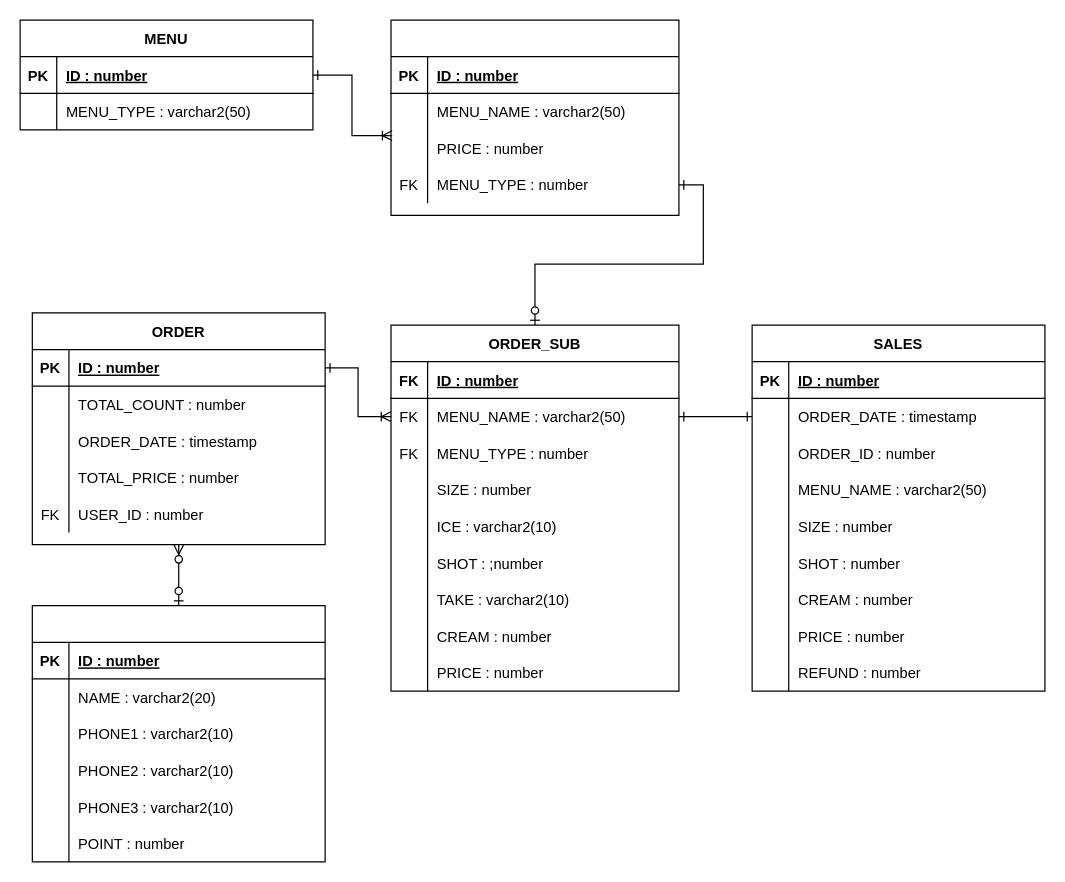
Some shapes in this 1065 by 882 pixel diagram are drawn without their labels. The shapes that lost their labels are listed below. From the top down, each one's box as (x1, y1, x2, y2) in pixels, then its label:
(390, 19, 679, 215): MENU_SUB
(31, 605, 325, 862): USER
